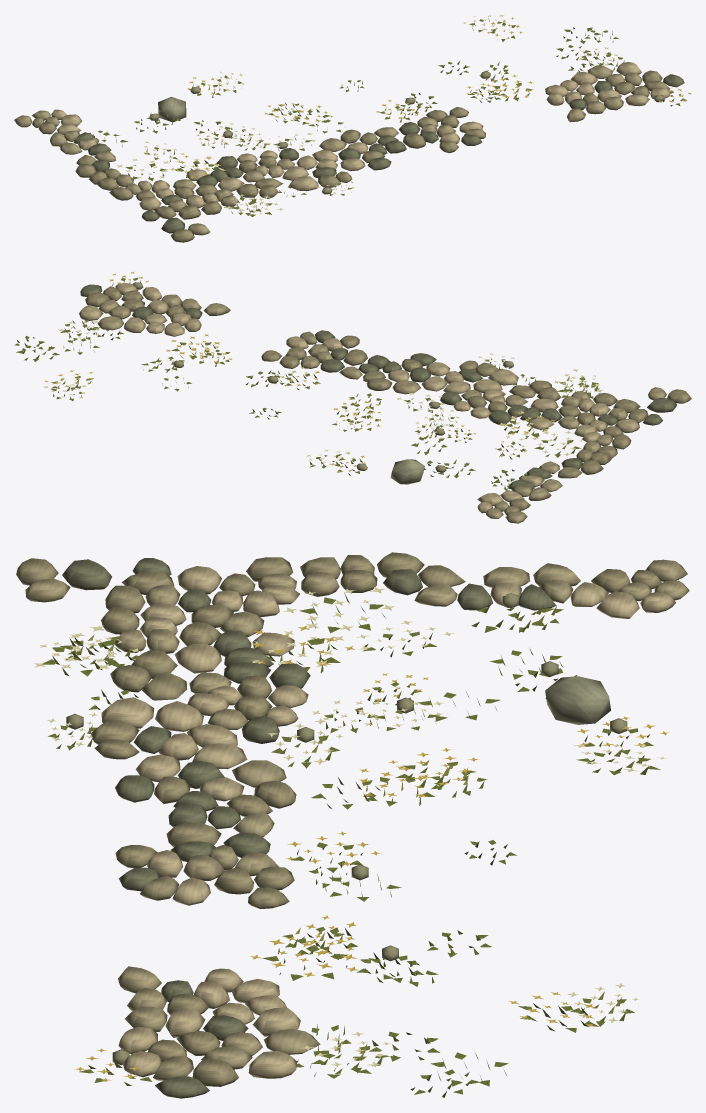
The model's file is detail-patch-03-00.fbx.
3 views of the same model, one above another, from view 1: azimuth 30°, elevation 25°; view 2: azimuth 150°, elevation 25°; view 3: azimuth 270°, elevation 25° (orthographic). The views are drawn at different scales.
Visible parts, largest first — view 1: detail-patch-03-00__Geometry; view 2: detail-patch-03-00__Geometry; view 3: detail-patch-03-00__Geometry.
Part boxes in pixels (x1=…): detail-patch-03-00__Geometry: x1=14, y1=14, x2=691, y2=242; detail-patch-03-00__Geometry: x1=14, y1=272, x2=691, y2=523; detail-patch-03-00__Geometry: x1=16, y1=552, x2=689, y2=1098.
Size of the model in its own units: 9.47 by 0.4005 by 5.
1 material, 1 textured.
